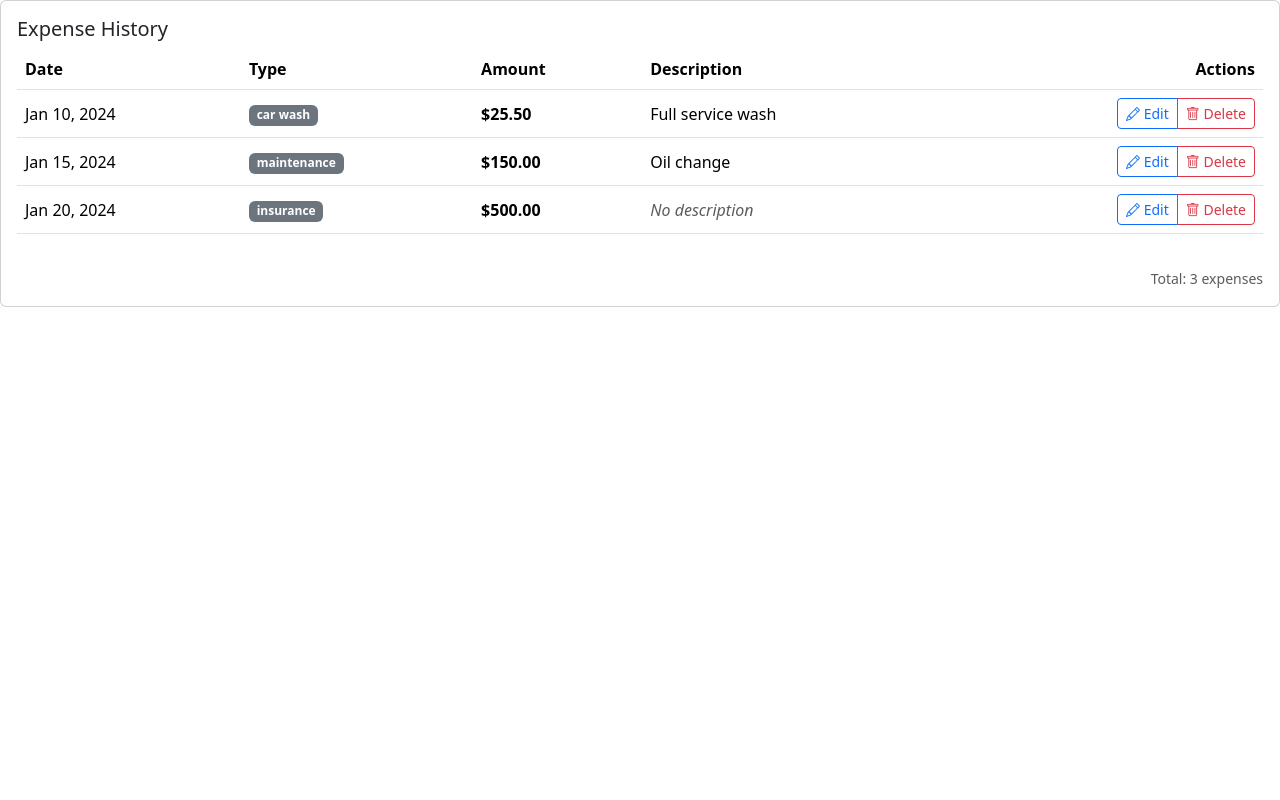
it: ExpenseList › Edit Functionality › enters edit mode when edit button is clicked
The width and height of the screenshot is (1280, 800).
Expected: the text "car wash" is shown, [249,105,318,126]
Click the button "Edit" in the row of "Jan 10, 2024" at (1147, 114), box [1117,98,1178,129]
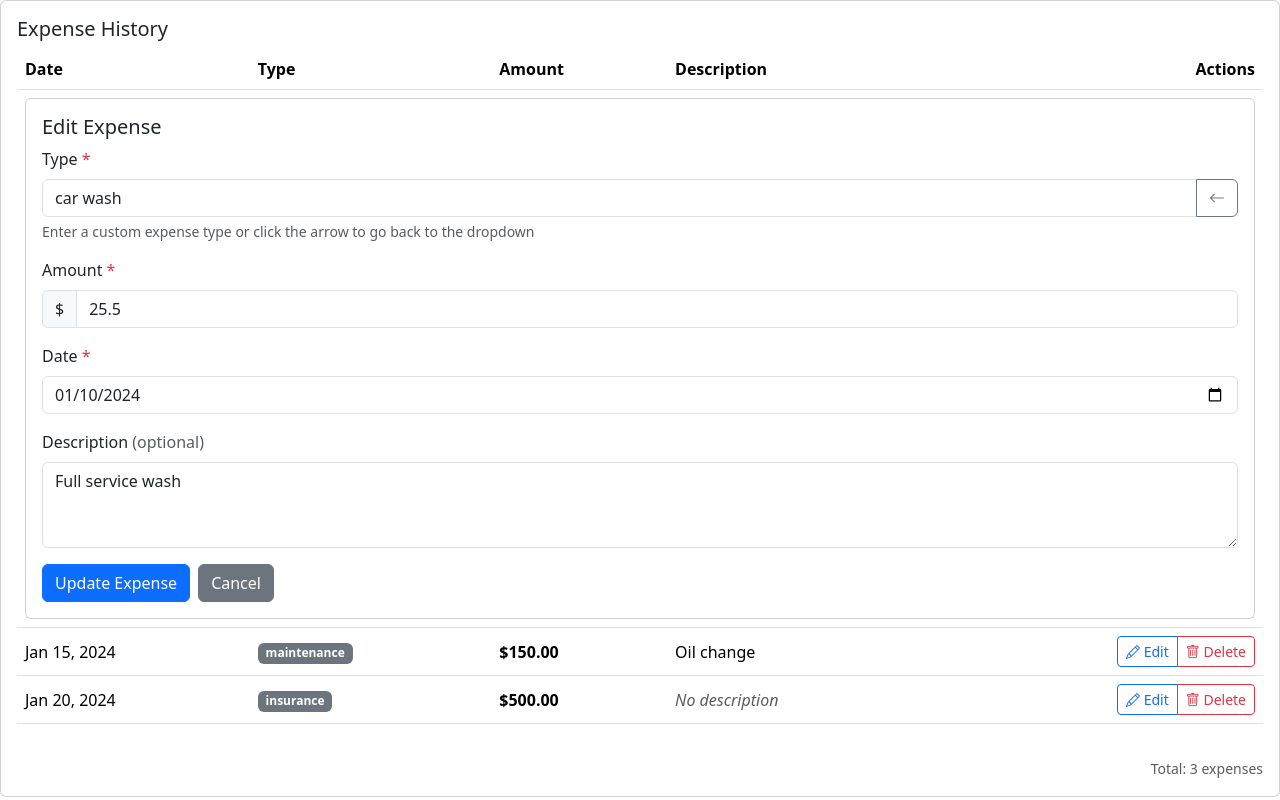
Expected: the field labelled "Type *" is shown, [42,179,1197,217]
Expected: the number field labelled "Amount *" is shown, [76,290,1238,328]
Expected: the button "Update Expense" is shown, [42,564,190,602]
